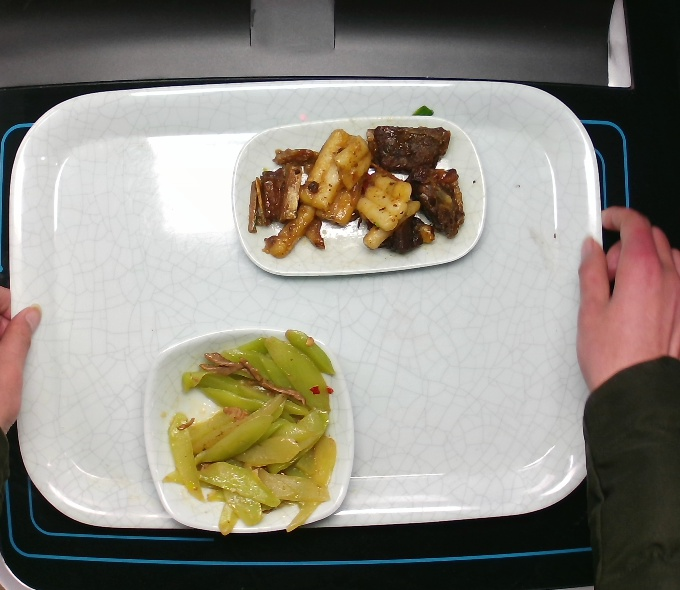wcq-NianGaoZaiPai: (240, 123, 477, 260)
wcq-WoSun: (158, 327, 345, 541)
